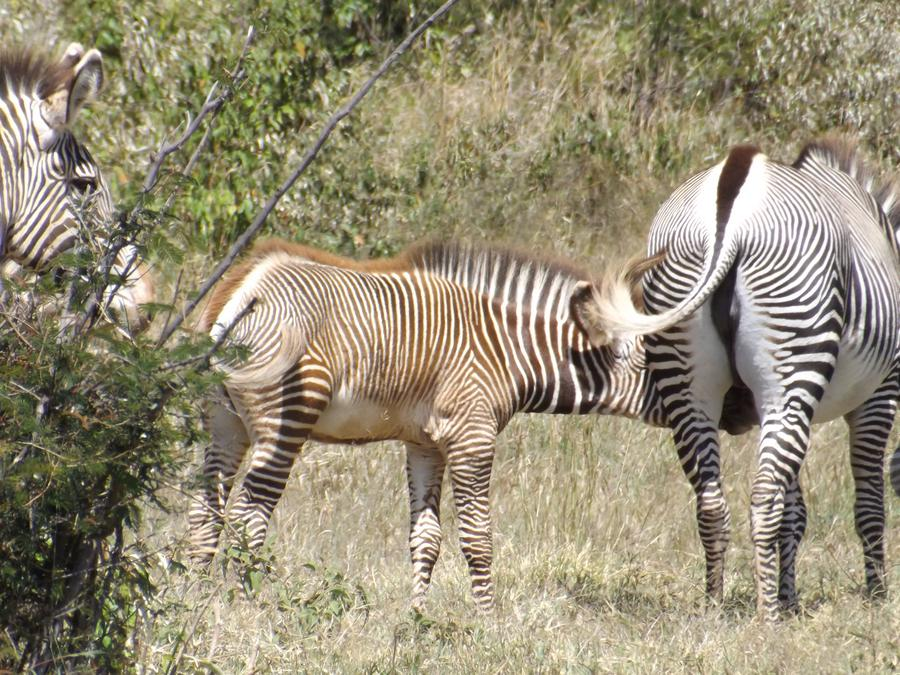zebra_grevys: (216, 242, 504, 455)
